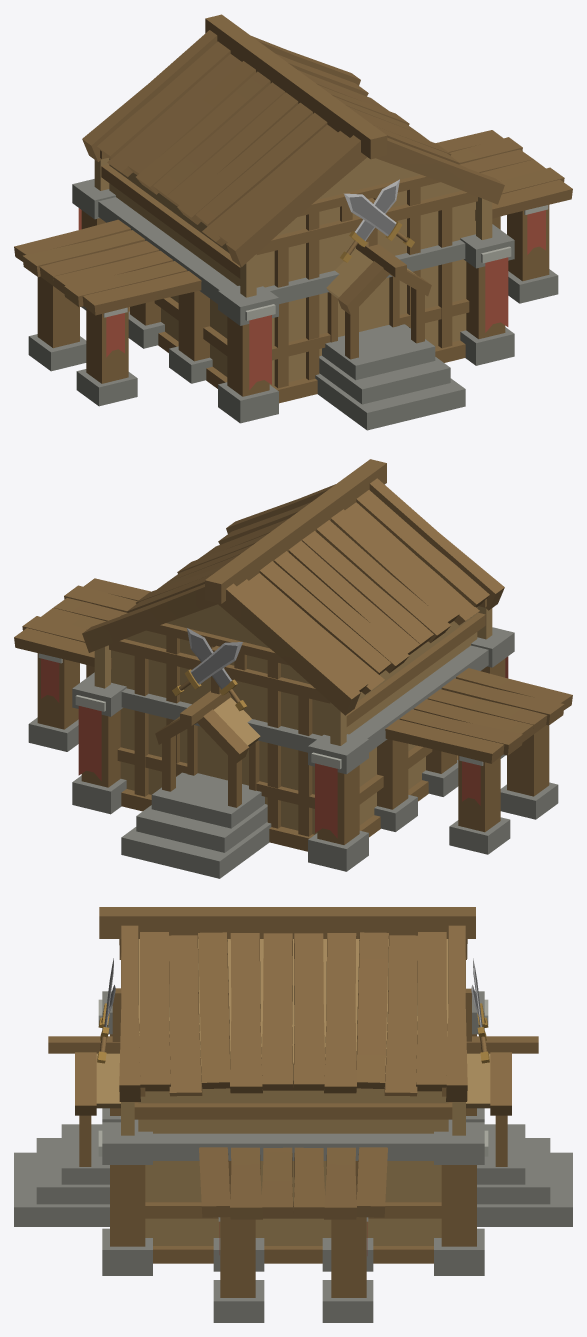
The model's file is Barracks_FirstAge_Level2.glb.
3 views of the same model, one above another, from view 1: azimuth 30°, elevation 25°; view 2: azimuth 150°, elevation 25°; view 3: azimuth 270°, elevation 25° (orthographic). The views are drawn at different scales.
Visible parts, largest first — view 1: Barracks_FirstAge_Level2; view 2: Barracks_FirstAge_Level2; view 3: Barracks_FirstAge_Level2.
Part boxes in pixels (left/top/right/bottom): Barracks_FirstAge_Level2: left=14, top=14, right=572, bottom=430; Barracks_FirstAge_Level2: left=14, top=459, right=572, bottom=878; Barracks_FirstAge_Level2: left=14, top=907, right=572, bottom=1322.
Bounding box in the file's own units: 1.79 × 0.8923 × 1.57.
